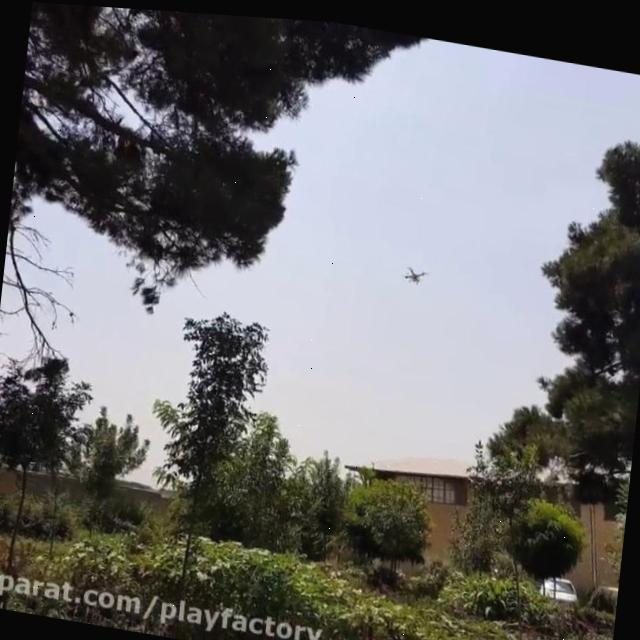drone: (398, 255, 428, 283)
